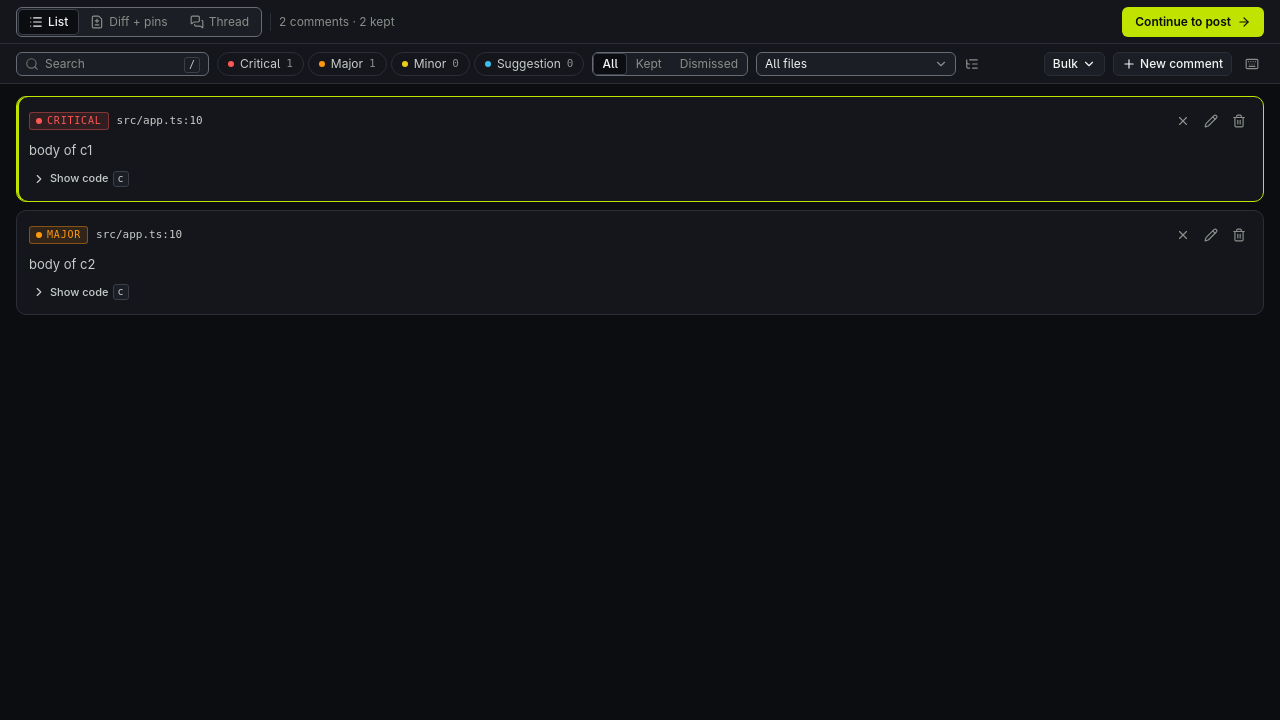
Test: PolishStage list — editing › Esc then Discard drops the draft and keeps the original text
Type keys "e"
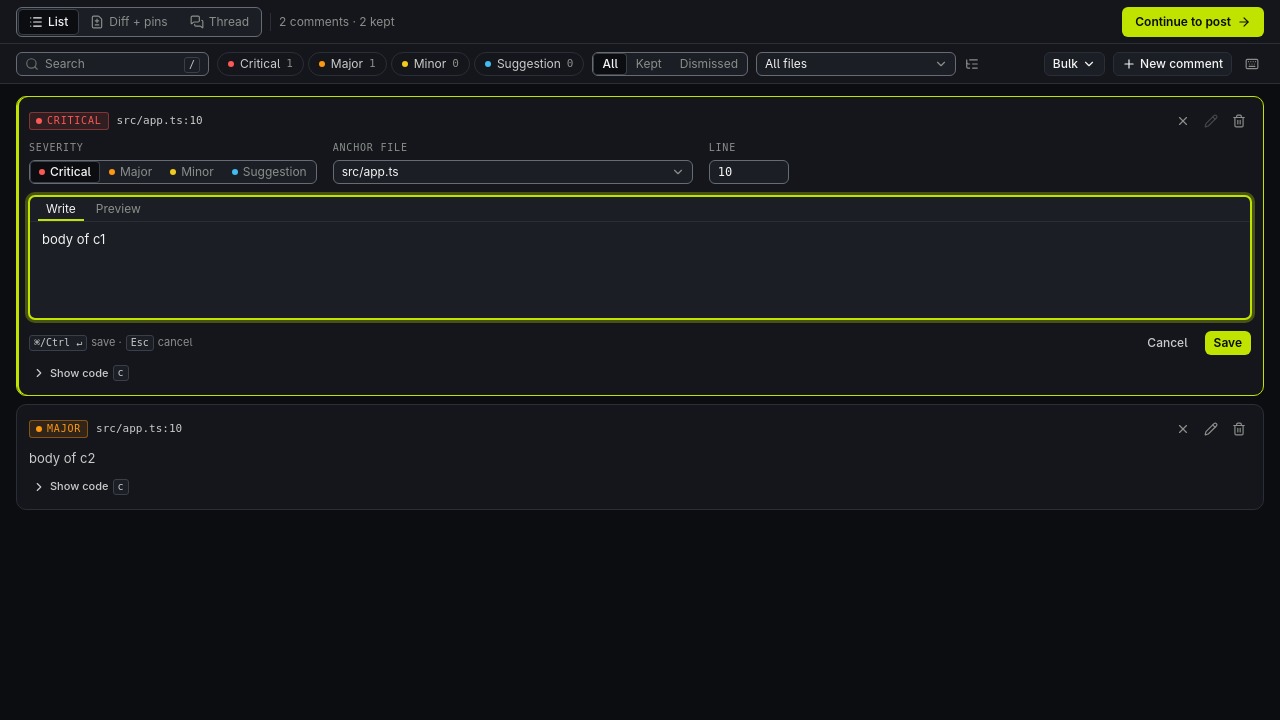
Type " plus a draft" into the text box named "Comment body" at (640,270), box [30,222,1250,318]
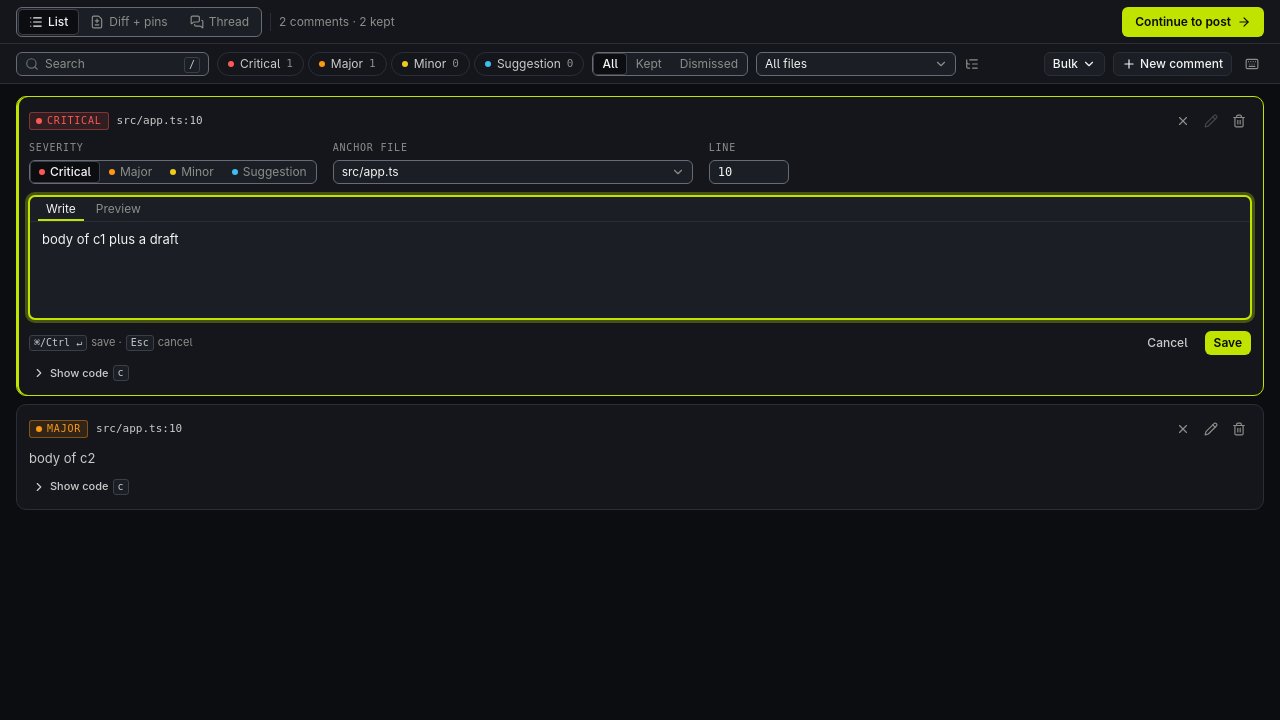
Press Escape
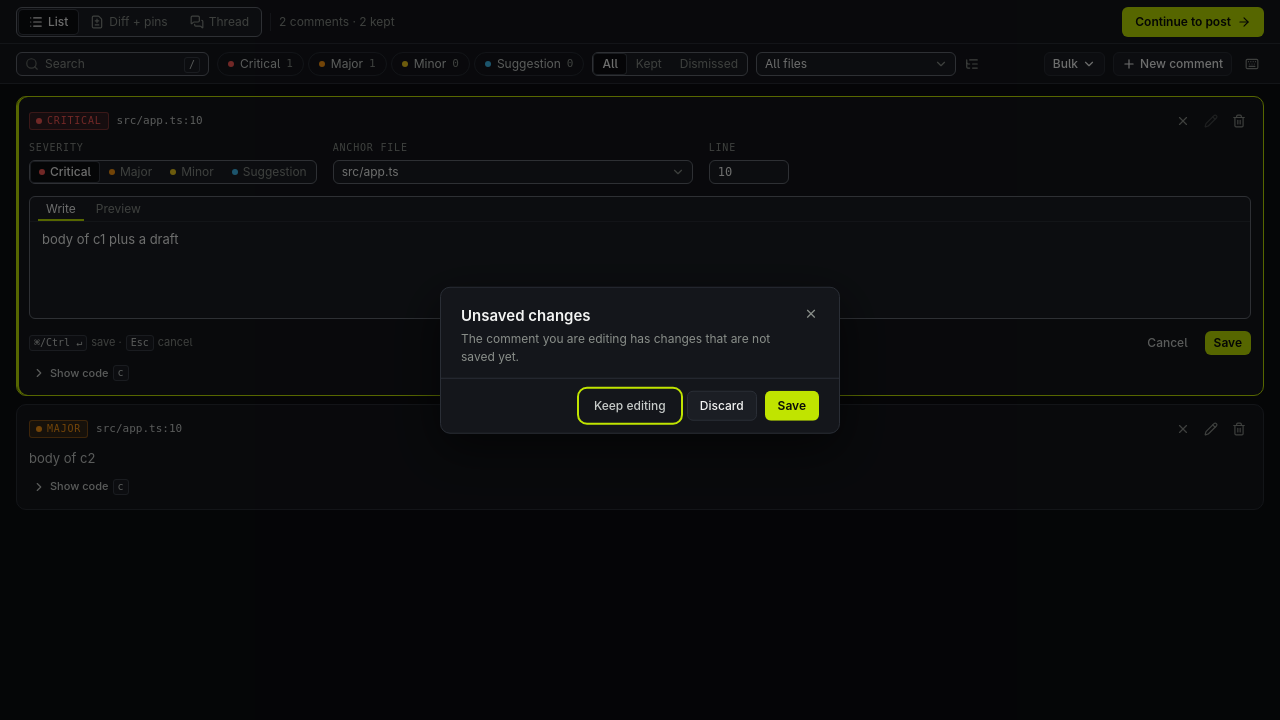
Click the button "Discard" at (722,405), box [687,390,756,420]
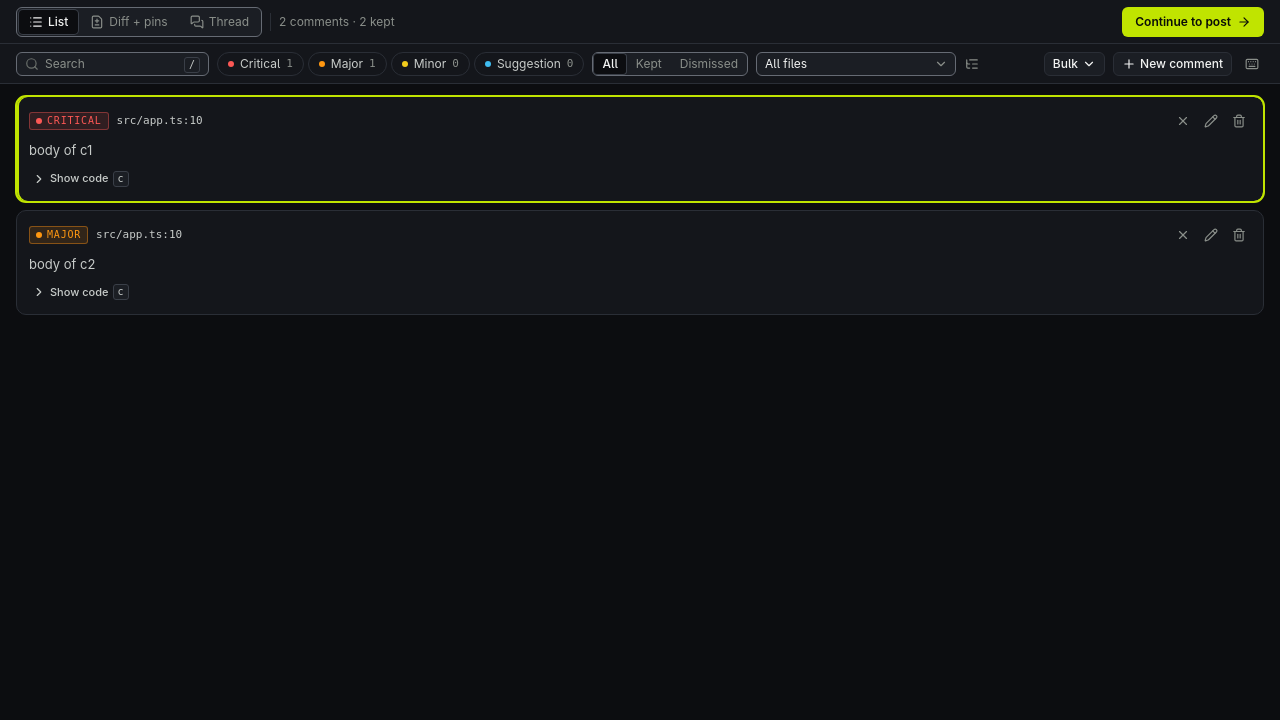
Expected: the text "body of c1" is shown, [29,142,92,158]
